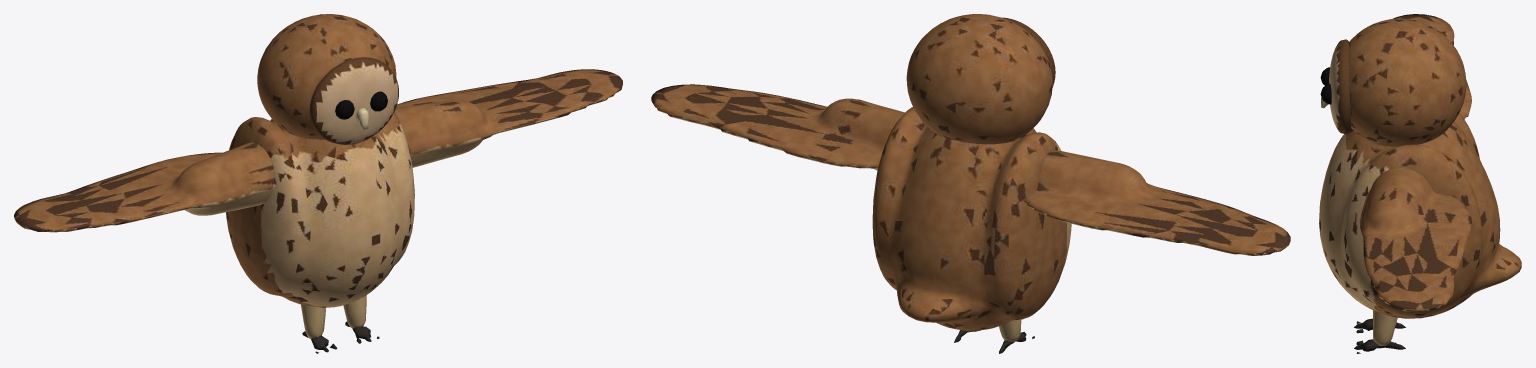
The model's file is tawny_owl.glb.
3 views of the same model, side by side, from view 1: azimuth 30°, elevation 25°; view 2: azimuth 150°, elevation 25°; view 3: azimuth 270°, elevation 25° (orthographic). The views are drawn at different scales.
Visible parts, largest first — view 1: tawny_owl, head, wing0, wing1, leg0, leg1; view 2: tawny_owl, head, wing0, wing1, leg0; view 3: tawny_owl, head, wing1, leg1, wing0, leg0.
Boxes of the visible parts, x1,y1,x2,y2 form: tawny_owl: [226, 112, 414, 307]; head: [257, 14, 398, 144]; wing0: [14, 142, 276, 232]; wing1: [394, 69, 622, 167]; leg0: [301, 304, 337, 353]; leg1: [343, 295, 379, 343]; tawny_owl: [872, 107, 1071, 330]; head: [906, 14, 1055, 144]; wing0: [1024, 149, 1290, 255]; wing1: [651, 84, 904, 170]; leg0: [999, 319, 1034, 353]; tawny_owl: [1319, 113, 1521, 318]; head: [1320, 18, 1466, 146]; wing1: [1360, 168, 1471, 312]; leg1: [1354, 310, 1405, 353]; wing0: [1393, 14, 1471, 119]; leg0: [1354, 310, 1405, 333].
Size of the model in its own units: 0.6297 by 0.3114 by 0.1825.
1 material, 1 textured.
